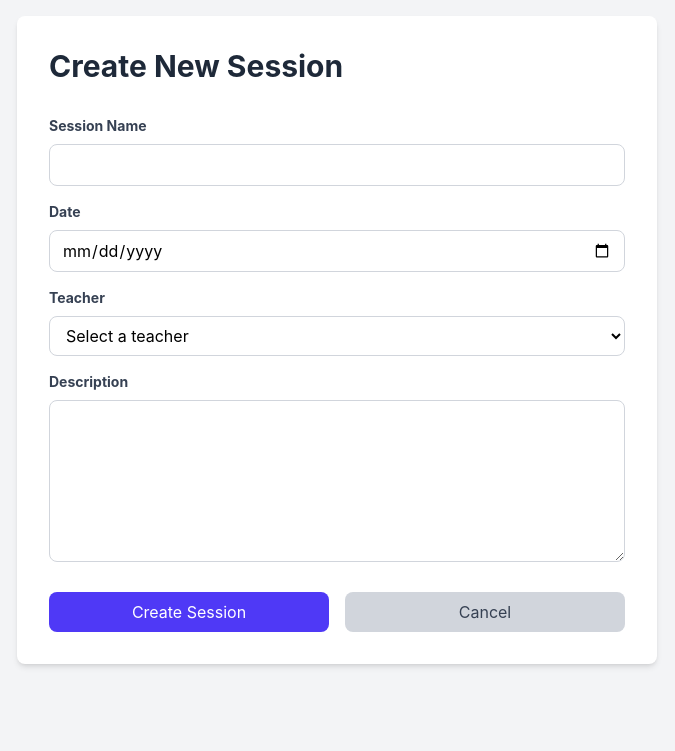
Test case: SessionForm › mode création › affiche une erreur si la création échoue
This screenshot has width=675, height=751.
Type "Morning Yoga" into the field named "name". click: (337, 165)
box: top-left (49, 144), bottom-right (625, 186)
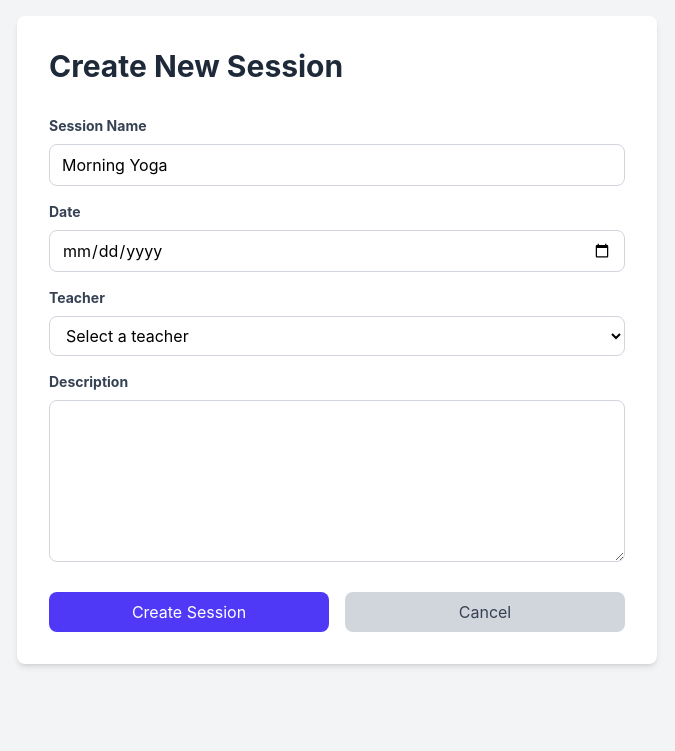
Type "2026-04-11" into the date field named "date". click: (337, 251)
box: top-left (49, 230), bottom-right (625, 272)
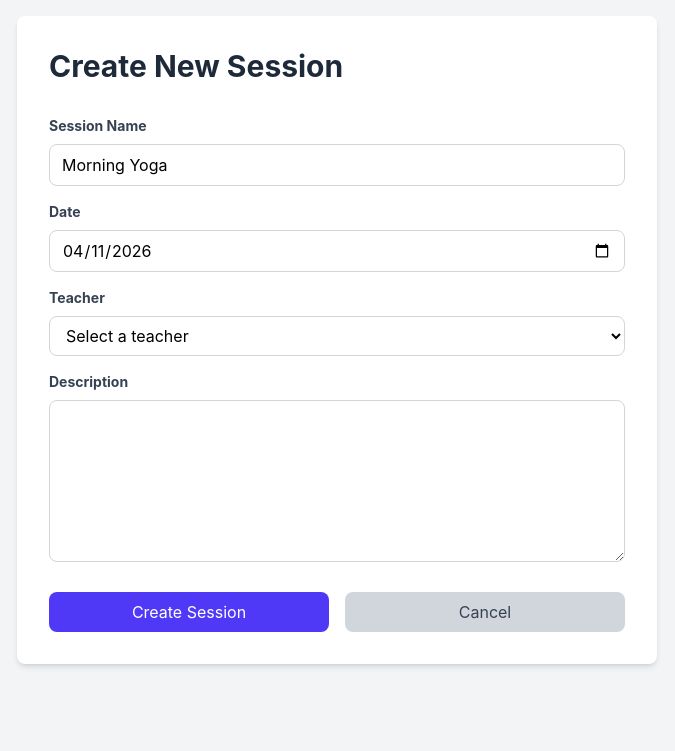
Select "John Doe" in the dropdown named "teacherId". click: (337, 336)
box: top-left (49, 316), bottom-right (625, 356)
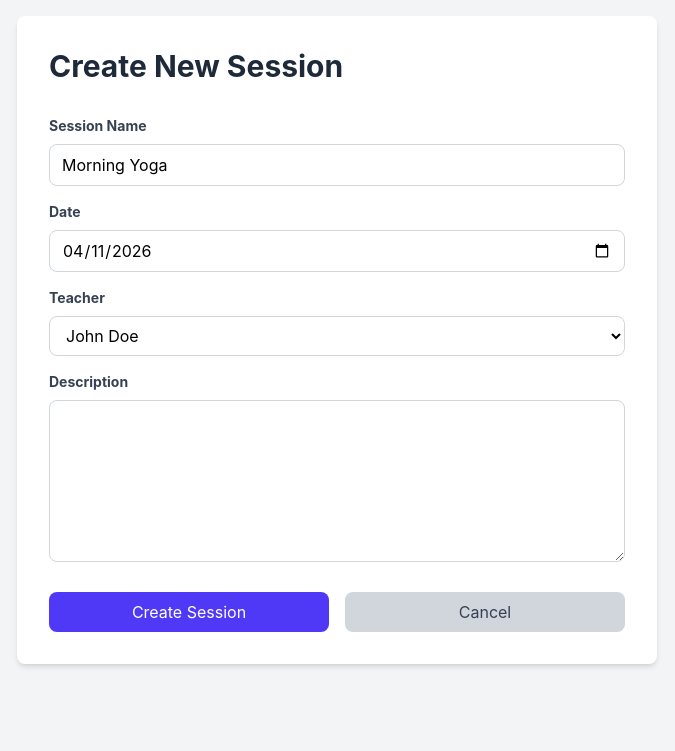
Type "A relaxing morning session" into the text box named "description". click: (337, 481)
box: top-left (49, 400), bottom-right (625, 562)
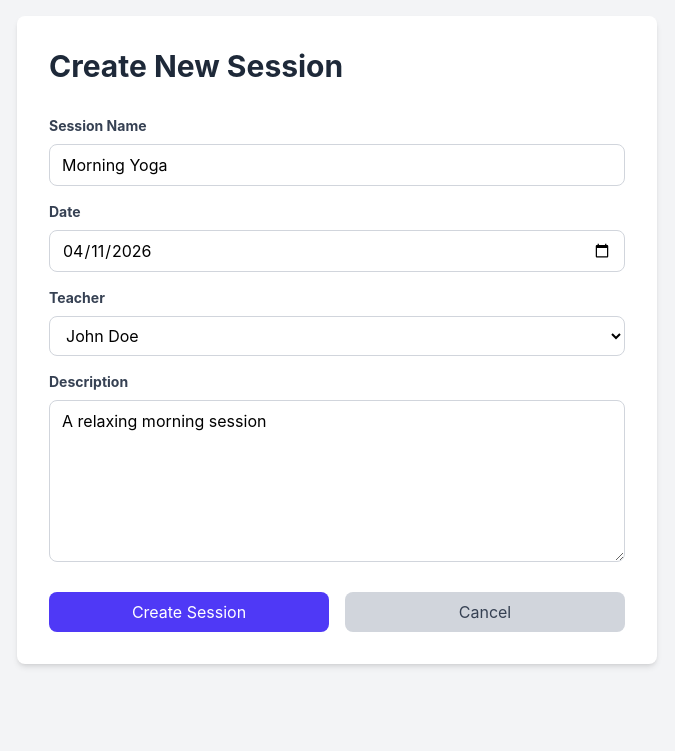
Click the button "Create Session". click: (189, 612)
box: top-left (49, 592), bottom-right (329, 632)
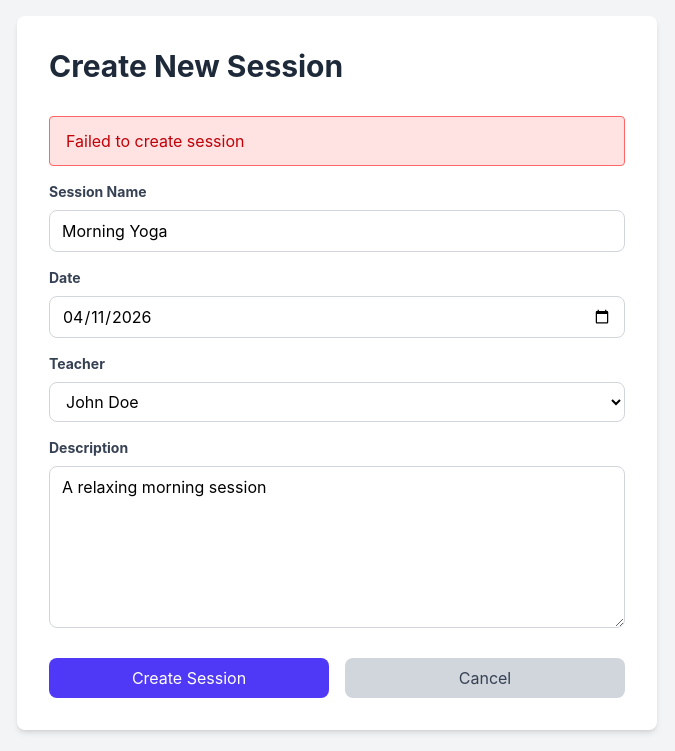
Now the text "Failed to create session" is shown, box top-left (49, 116), bottom-right (625, 166)
